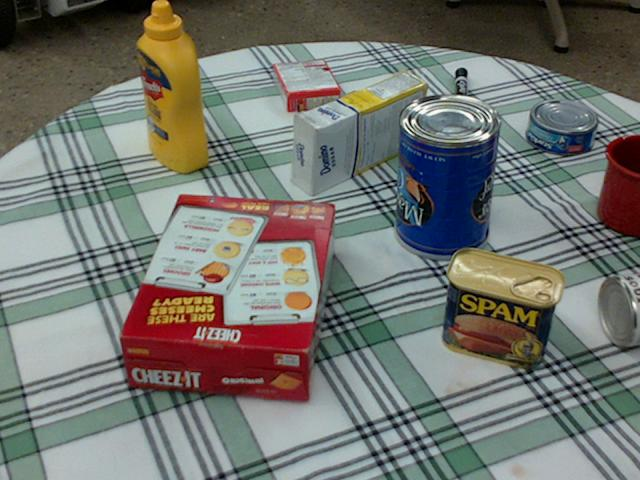cracker_box: (118, 196, 334, 399)
gelatin_box: (273, 60, 340, 111)
large_marker: (453, 67, 468, 118)
master_chef_can: (393, 93, 503, 257)
mug: (596, 135, 639, 237)
mustard_bottle: (137, 0, 206, 171)
potted_meat_can: (442, 248, 563, 366)
sugar_box: (292, 70, 426, 196)
tomato_soup_can: (600, 272, 639, 344)
tuna_fish_can: (526, 99, 597, 154)
